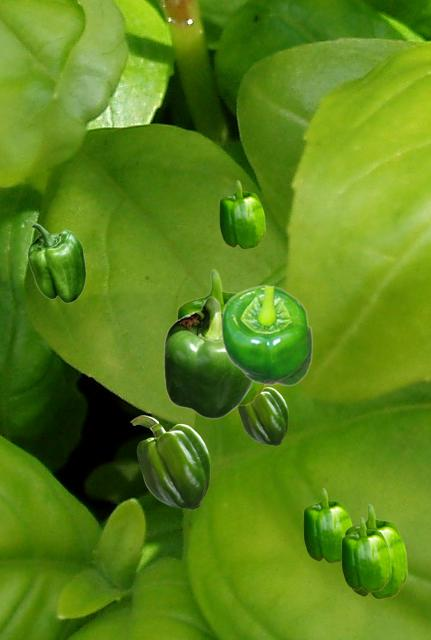bell_pepper: (176, 269, 264, 406), (163, 296, 253, 418), (220, 284, 312, 385), (130, 415, 209, 508), (344, 504, 406, 598), (27, 223, 85, 302), (303, 488, 352, 562), (341, 517, 390, 591), (219, 180, 264, 248), (237, 386, 287, 444)
